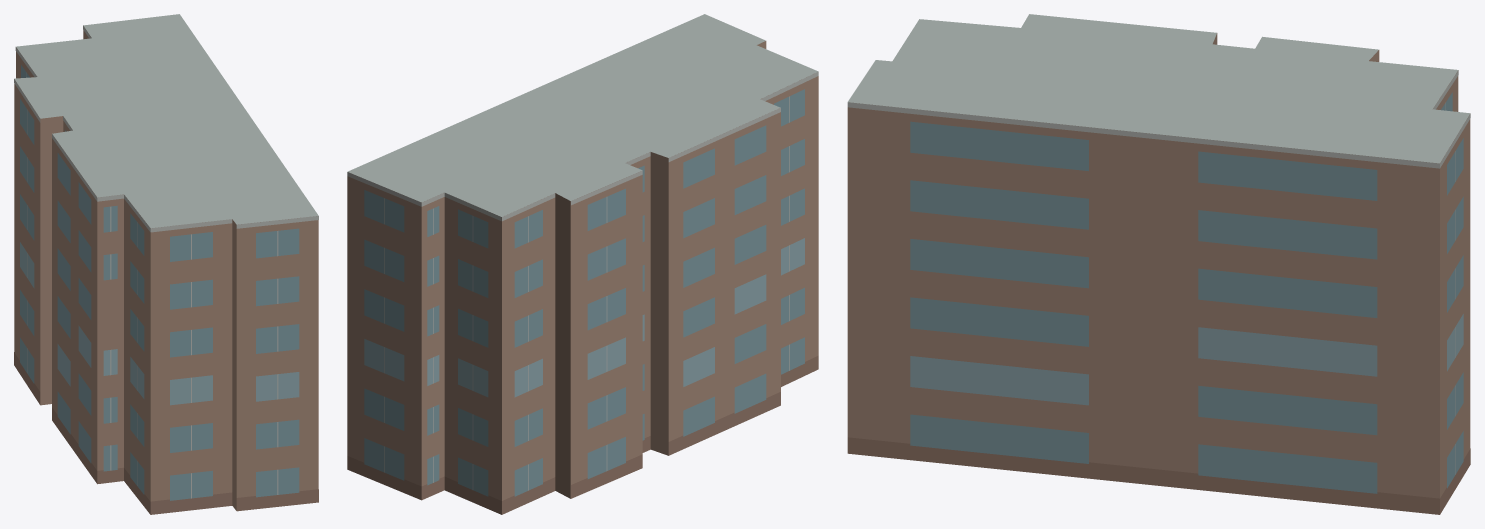
File: survey-upis-32737165.glb
3 views of the same model, side by side, from view 1: azimuth 30°, elevation 25°; view 2: azimuth 150°, elevation 25°; view 3: azimuth 270°, elevation 25° (orthographic). The views are drawn at different scales.
Parts seen in each view (by area): view 1: survey-upis-32737165.tmp; view 2: survey-upis-32737165.tmp; view 3: survey-upis-32737165.tmp.
Part boxes in pixels (box(x1,y1,x2,y2)): survey-upis-32737165.tmp: box(14, 14, 318, 514); survey-upis-32737165.tmp: box(347, 14, 818, 514); survey-upis-32737165.tmp: box(847, 14, 1470, 514).
Bounding box in the file's own units: 15.24 × 16.7 × 26.84.
